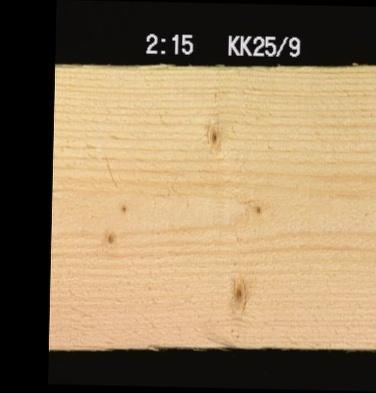small_knot: (201, 119, 223, 150), (101, 227, 120, 246), (248, 197, 265, 217), (114, 198, 130, 217)
sound_knot: (223, 274, 251, 313)
